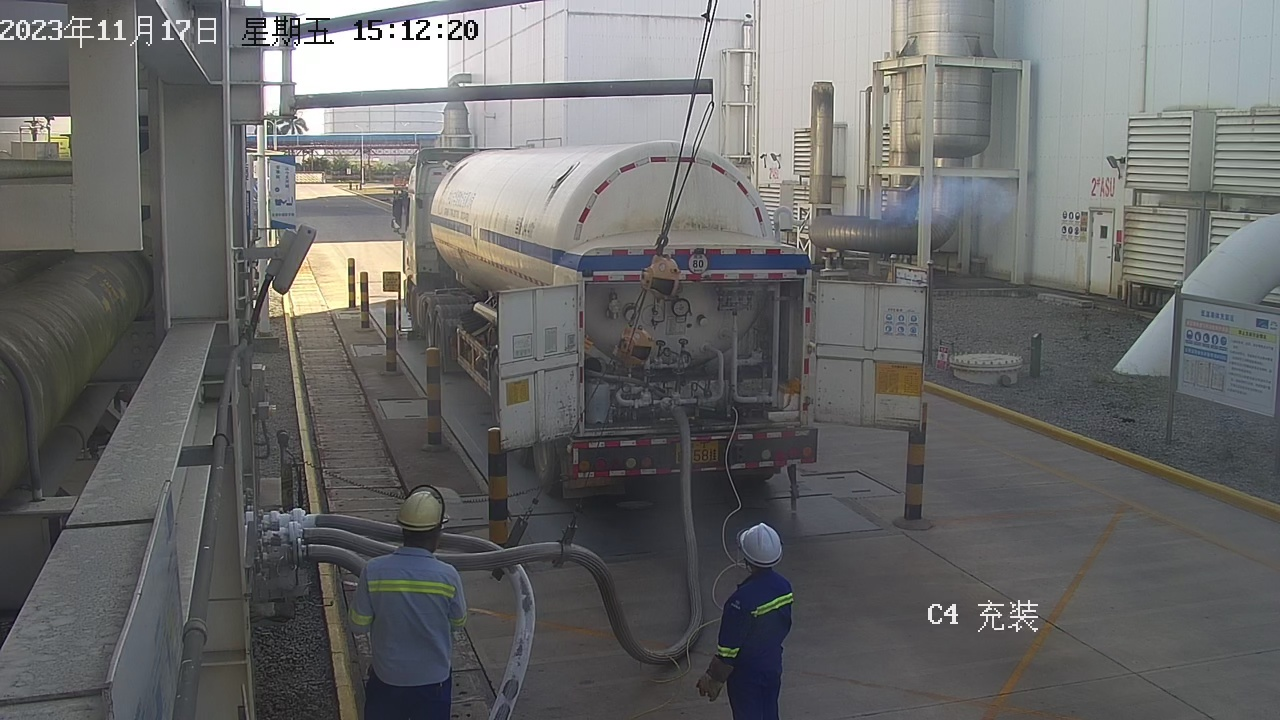Head_with_Helmet: (370, 469, 476, 558), (715, 504, 802, 585)
Uniform: (339, 535, 480, 720), (688, 557, 810, 720)
